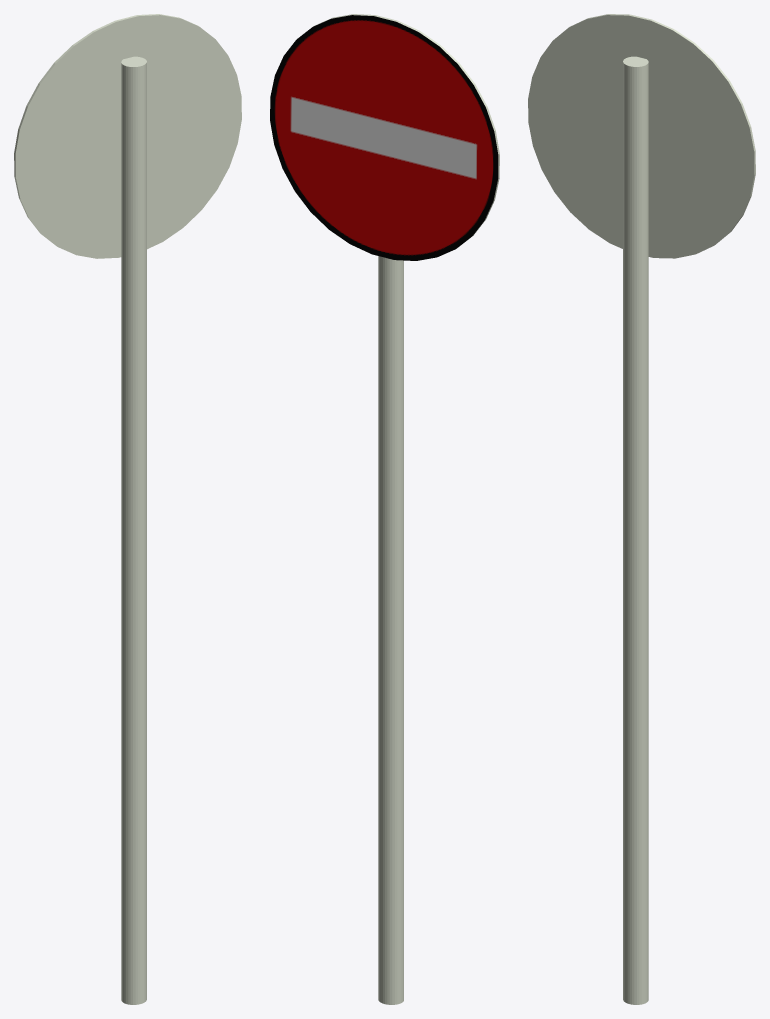
File: forbidden_tube.glb
3 renders of one model, left to right at view 1: azimuth 30°, elevation 25°; view 2: azimuth 150°, elevation 25°; view 3: azimuth 330°, elevation 25°, orthographic.
Parts seen in each view (by area): view 1: Circle.002, forbidden_tube; view 2: Circle.002, forbidden_tube; view 3: Circle.002, forbidden_tube.
Boxes of the visible parts, x1,y1,x2,y2 form: Circle.002: (14,14,241,258); forbidden_tube: (121,56,146,1004); Circle.002: (270,14,499,260); forbidden_tube: (378,256,403,1004); Circle.002: (528,14,755,258); forbidden_tube: (623,56,648,1004).
Bounding box in the file's own units: 0.4383 × 1.81 × 0.0437.
Materials: 3 (1 with a texture image).
